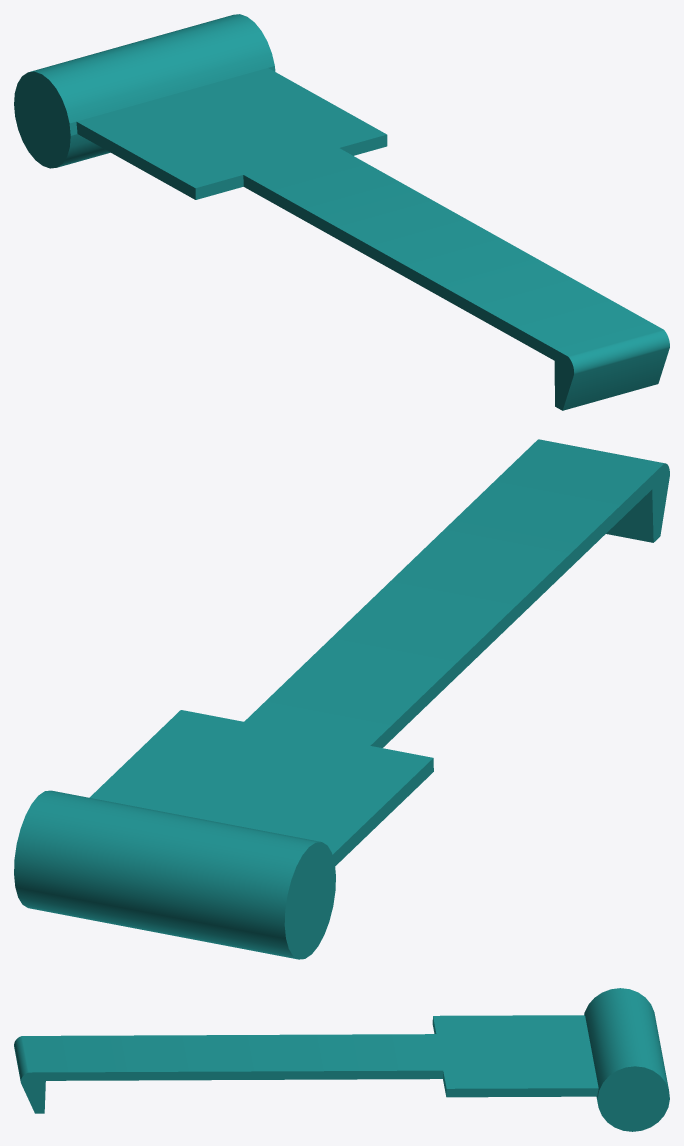
Rendered from original-28.obj.
The picture shows the model from 3 angles, top to bottom: view 1: azimuth 30°, elevation 25°; view 2: azimuth 150°, elevation 25°; view 3: azimuth 270°, elevation 25°; orthographic projection. The views are drawn at different scales.
Visible parts, largest first — view 1: mesh39/mesh39-geometry#mesh39-geometry; view 2: mesh39/mesh39-geometry#mesh39-geometry; view 3: mesh39/mesh39-geometry#mesh39-geometry.
Boxes of the visible parts, x1,y1,x2,y2 form: mesh39/mesh39-geometry#mesh39-geometry: (14, 14, 669, 410); mesh39/mesh39-geometry#mesh39-geometry: (14, 439, 669, 959); mesh39/mesh39-geometry#mesh39-geometry: (14, 988, 669, 1131).
Bounding box in the file's own units: 0.0519 × 0.02 × 0.1761.
